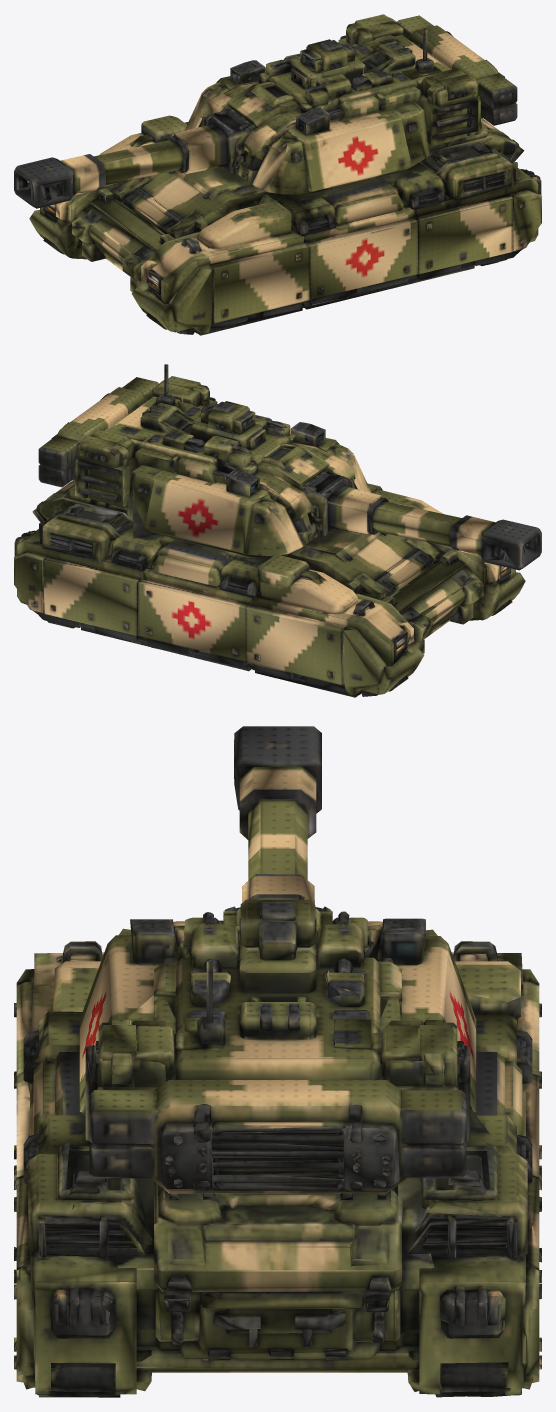
Rendered from tank_assembled.glb.
The picture shows the model from 3 angles, top to bottom: view 1: azimuth 30°, elevation 25°; view 2: azimuth 150°, elevation 25°; view 3: azimuth 270°, elevation 25°; orthographic projection. The views are drawn at different scales.
Parts seen in each view (by area): view 1: Body, Turret_Mesh, Gun_Mesh; view 2: Body, Turret_Mesh, Gun_Mesh; view 3: Body, Turret_Mesh, Gun_Mesh.
Boxes of the visible parts, x1=… form: Body: x1=29, y1=115, x2=541, y2=335; Turret_Mesh: x1=184, y1=14, x2=517, y2=195; Gun_Mesh: x1=14, y1=106, x2=255, y2=208; Body: x1=14, y1=480, x2=525, y2=697; Turret_Mesh: x1=38, y1=364, x2=371, y2=556; Gun_Mesh: x1=299, y1=468, x2=541, y2=570; Body: x1=14, y1=941, x2=541, y2=1397; Turret_Mesh: x1=79, y1=894, x2=490, y2=1193; Gun_Mesh: x1=224, y1=726, x2=331, y2=911.
Size of the model in its own units: 0.9536 by 0.4048 by 0.4819.
Materials: 1 (1 with a texture image).
